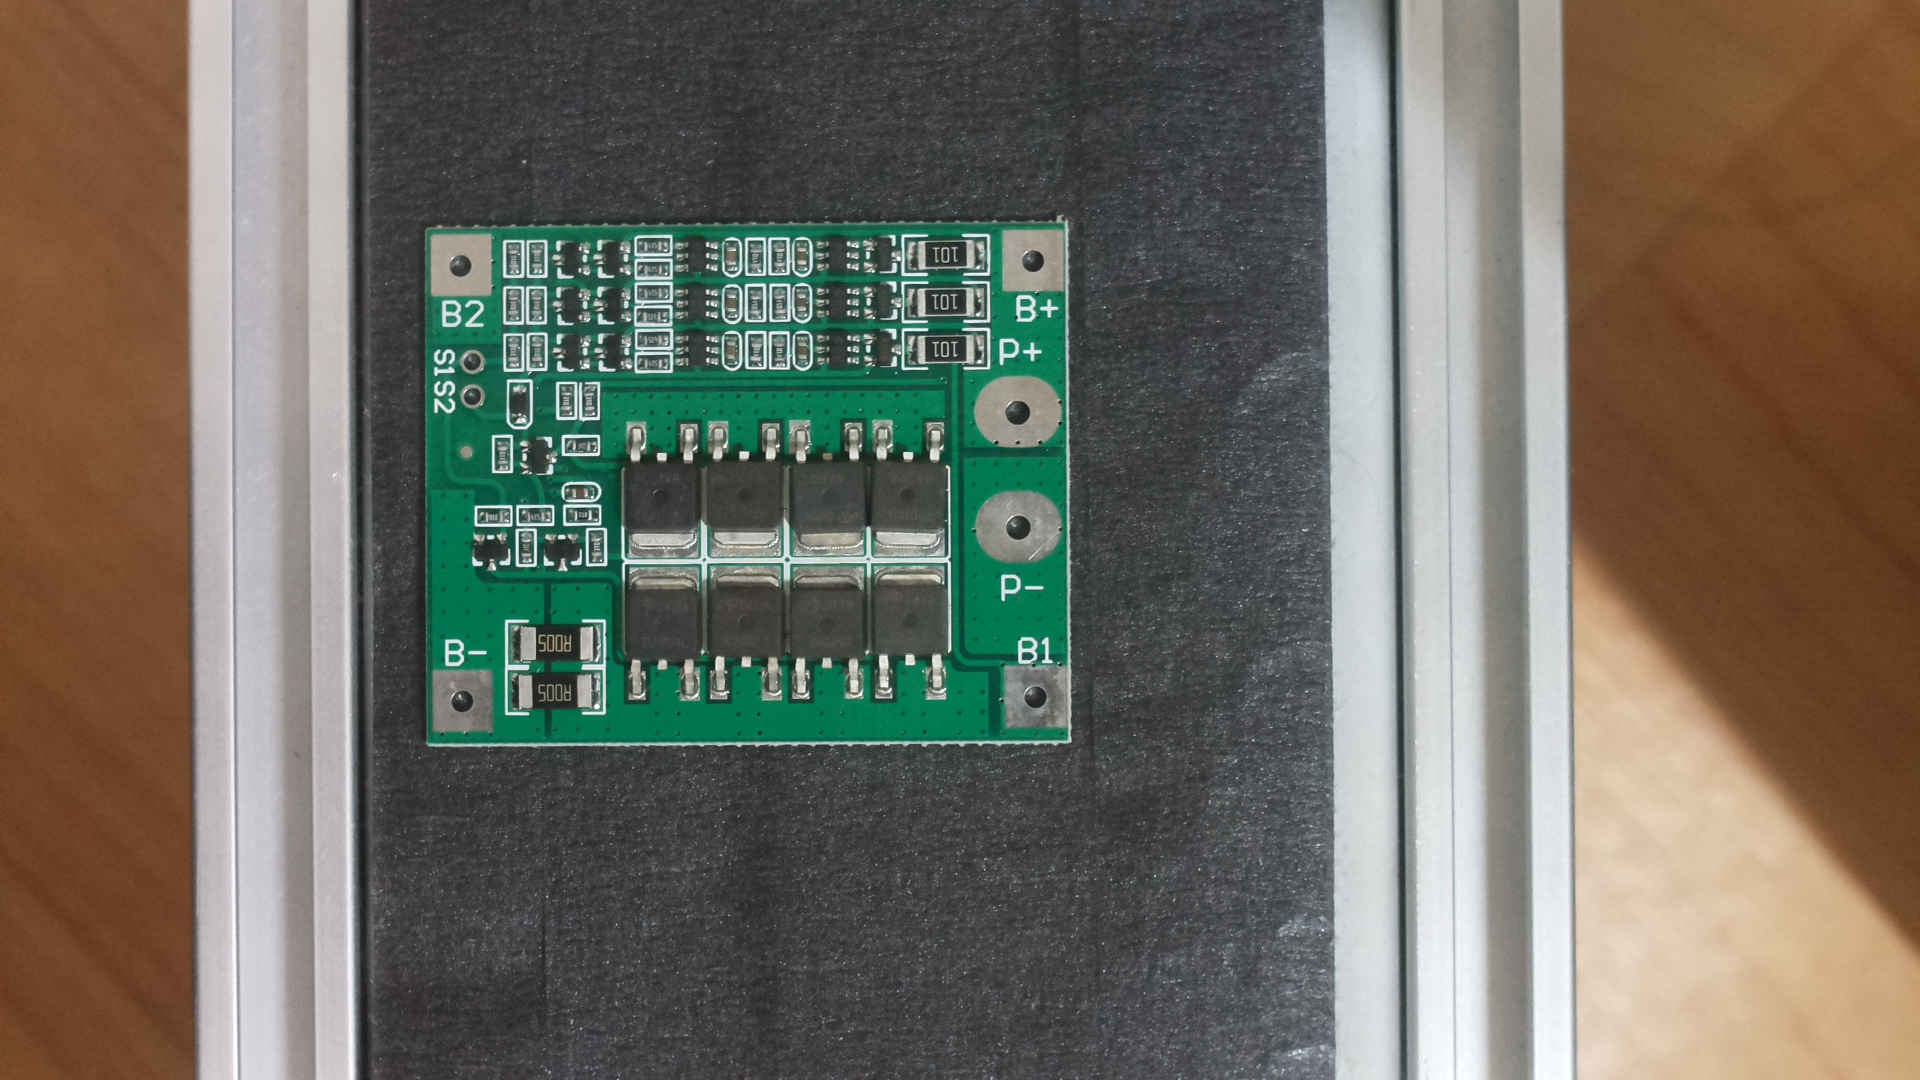C_Normal: (413, 204, 1081, 773)
